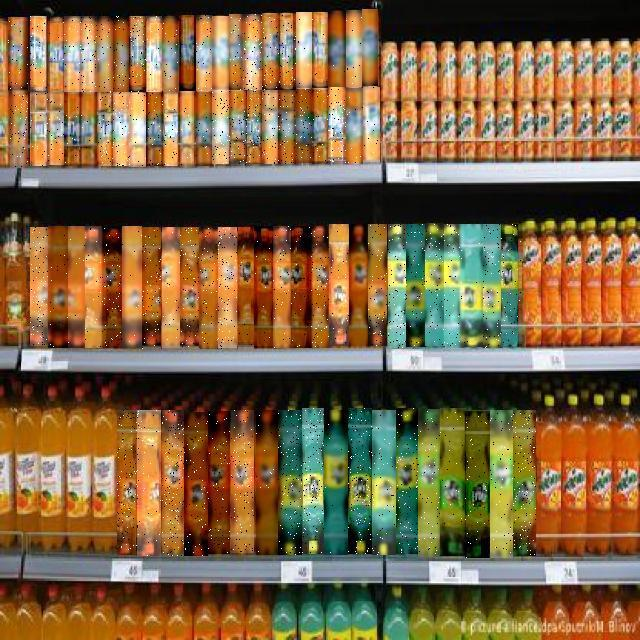Drinks: (440, 409, 466, 557), (465, 410, 490, 558), (418, 409, 442, 557), (348, 408, 372, 554), (278, 410, 302, 555), (324, 410, 348, 555), (372, 410, 396, 555), (184, 412, 208, 556), (490, 410, 513, 558), (513, 410, 536, 556), (231, 410, 254, 553), (139, 410, 161, 556), (162, 410, 184, 556), (302, 408, 324, 554), (396, 409, 418, 555), (118, 410, 140, 555), (256, 410, 278, 555), (208, 411, 230, 554), (406, 224, 426, 347), (426, 223, 446, 346), (463, 224, 483, 347), (502, 224, 522, 347), (49, 227, 69, 349), (86, 227, 106, 349), (104, 227, 124, 349), (123, 227, 143, 349), (180, 228, 200, 350), (199, 227, 219, 349), (254, 227, 274, 349), (292, 226, 312, 348), (310, 227, 330, 349), (329, 225, 349, 347), (349, 225, 369, 347), (30, 228, 50, 348), (483, 224, 502, 348), (142, 228, 161, 350), (218, 228, 237, 350), (273, 227, 292, 349), (368, 225, 387, 347), (388, 224, 406, 348), (446, 224, 464, 348), (68, 227, 86, 349), (162, 228, 180, 350), (238, 228, 254, 350), (9, 18, 29, 94), (278, 13, 296, 90), (212, 16, 230, 92), (244, 15, 262, 91), (328, 11, 346, 87), (328, 88, 346, 164), (10, 94, 28, 168), (30, 92, 48, 166), (212, 91, 230, 165), (262, 90, 280, 164), (278, 90, 296, 164), (30, 16, 47, 92), (47, 17, 64, 93), (64, 16, 81, 92), (80, 17, 97, 93), (97, 17, 114, 93), (113, 17, 130, 93), (129, 17, 146, 93), (179, 15, 196, 91), (346, 88, 363, 164), (363, 88, 380, 164), (64, 92, 81, 166), (80, 92, 97, 166), (97, 92, 114, 166), (113, 92, 130, 166), (129, 93, 146, 167), (146, 92, 163, 166), (229, 92, 246, 166), (47, 92, 64, 165), (362, 9, 378, 86), (262, 13, 278, 90), (346, 10, 362, 87), (146, 17, 162, 93), (162, 16, 178, 92), (196, 15, 212, 91), (230, 15, 246, 91), (296, 12, 312, 88), (312, 12, 328, 88), (196, 92, 212, 166), (246, 91, 262, 165), (296, 89, 312, 163), (312, 90, 328, 164), (180, 91, 194, 167), (164, 92, 178, 166)
